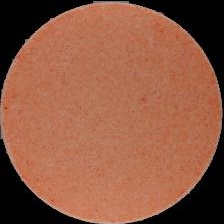55700-035: (0, 0, 224, 224)
